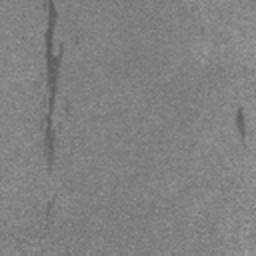Red iron sheet: (41, 0, 64, 172), (234, 106, 247, 141)
